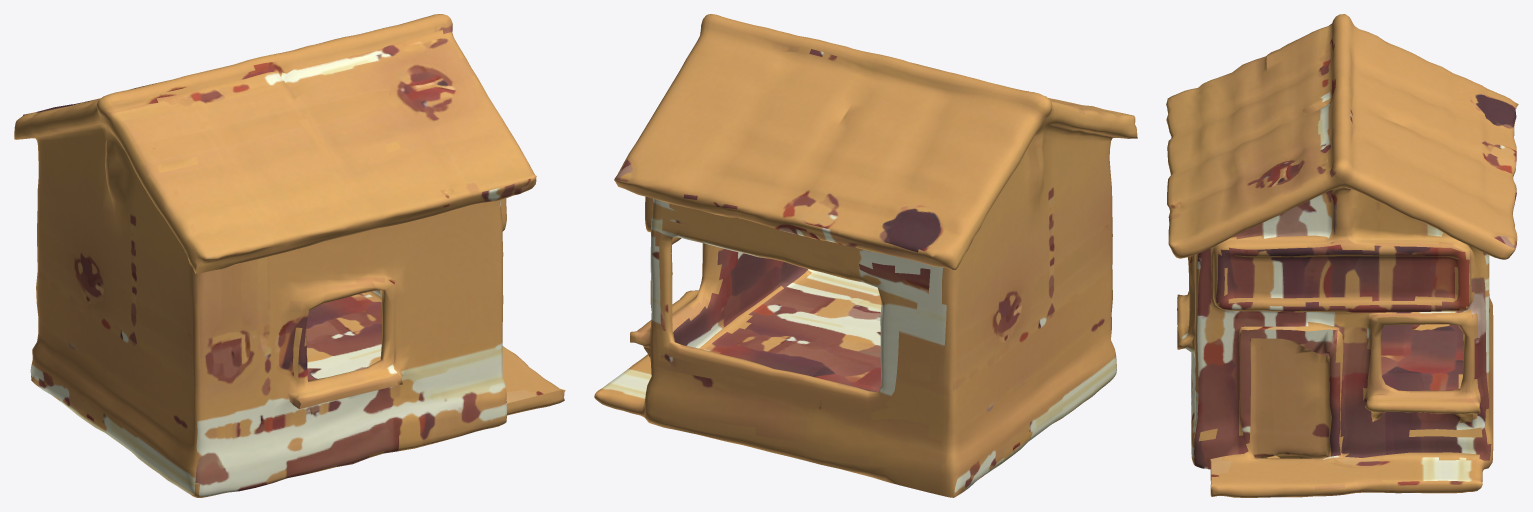
Rendered from B02_GeneralStore.fbx.
3 views of the same model, side by side, from view 1: azimuth 30°, elevation 25°; view 2: azimuth 150°, elevation 25°; view 3: azimuth 270°, elevation 25° (orthographic). The views are drawn at different scales.
Parts seen in each view (by area): view 1: tripo_node_09ca9313; view 2: tripo_node_09ca9313; view 3: tripo_node_09ca9313.
Part boxes in pixels (x1,y1,x2,y2): tripo_node_09ca9313: (14,14,565,497); tripo_node_09ca9313: (594,14,1137,497); tripo_node_09ca9313: (1166,14,1518,497).
Size of the model in its own units: 0.9768 by 0.825 by 0.835.
